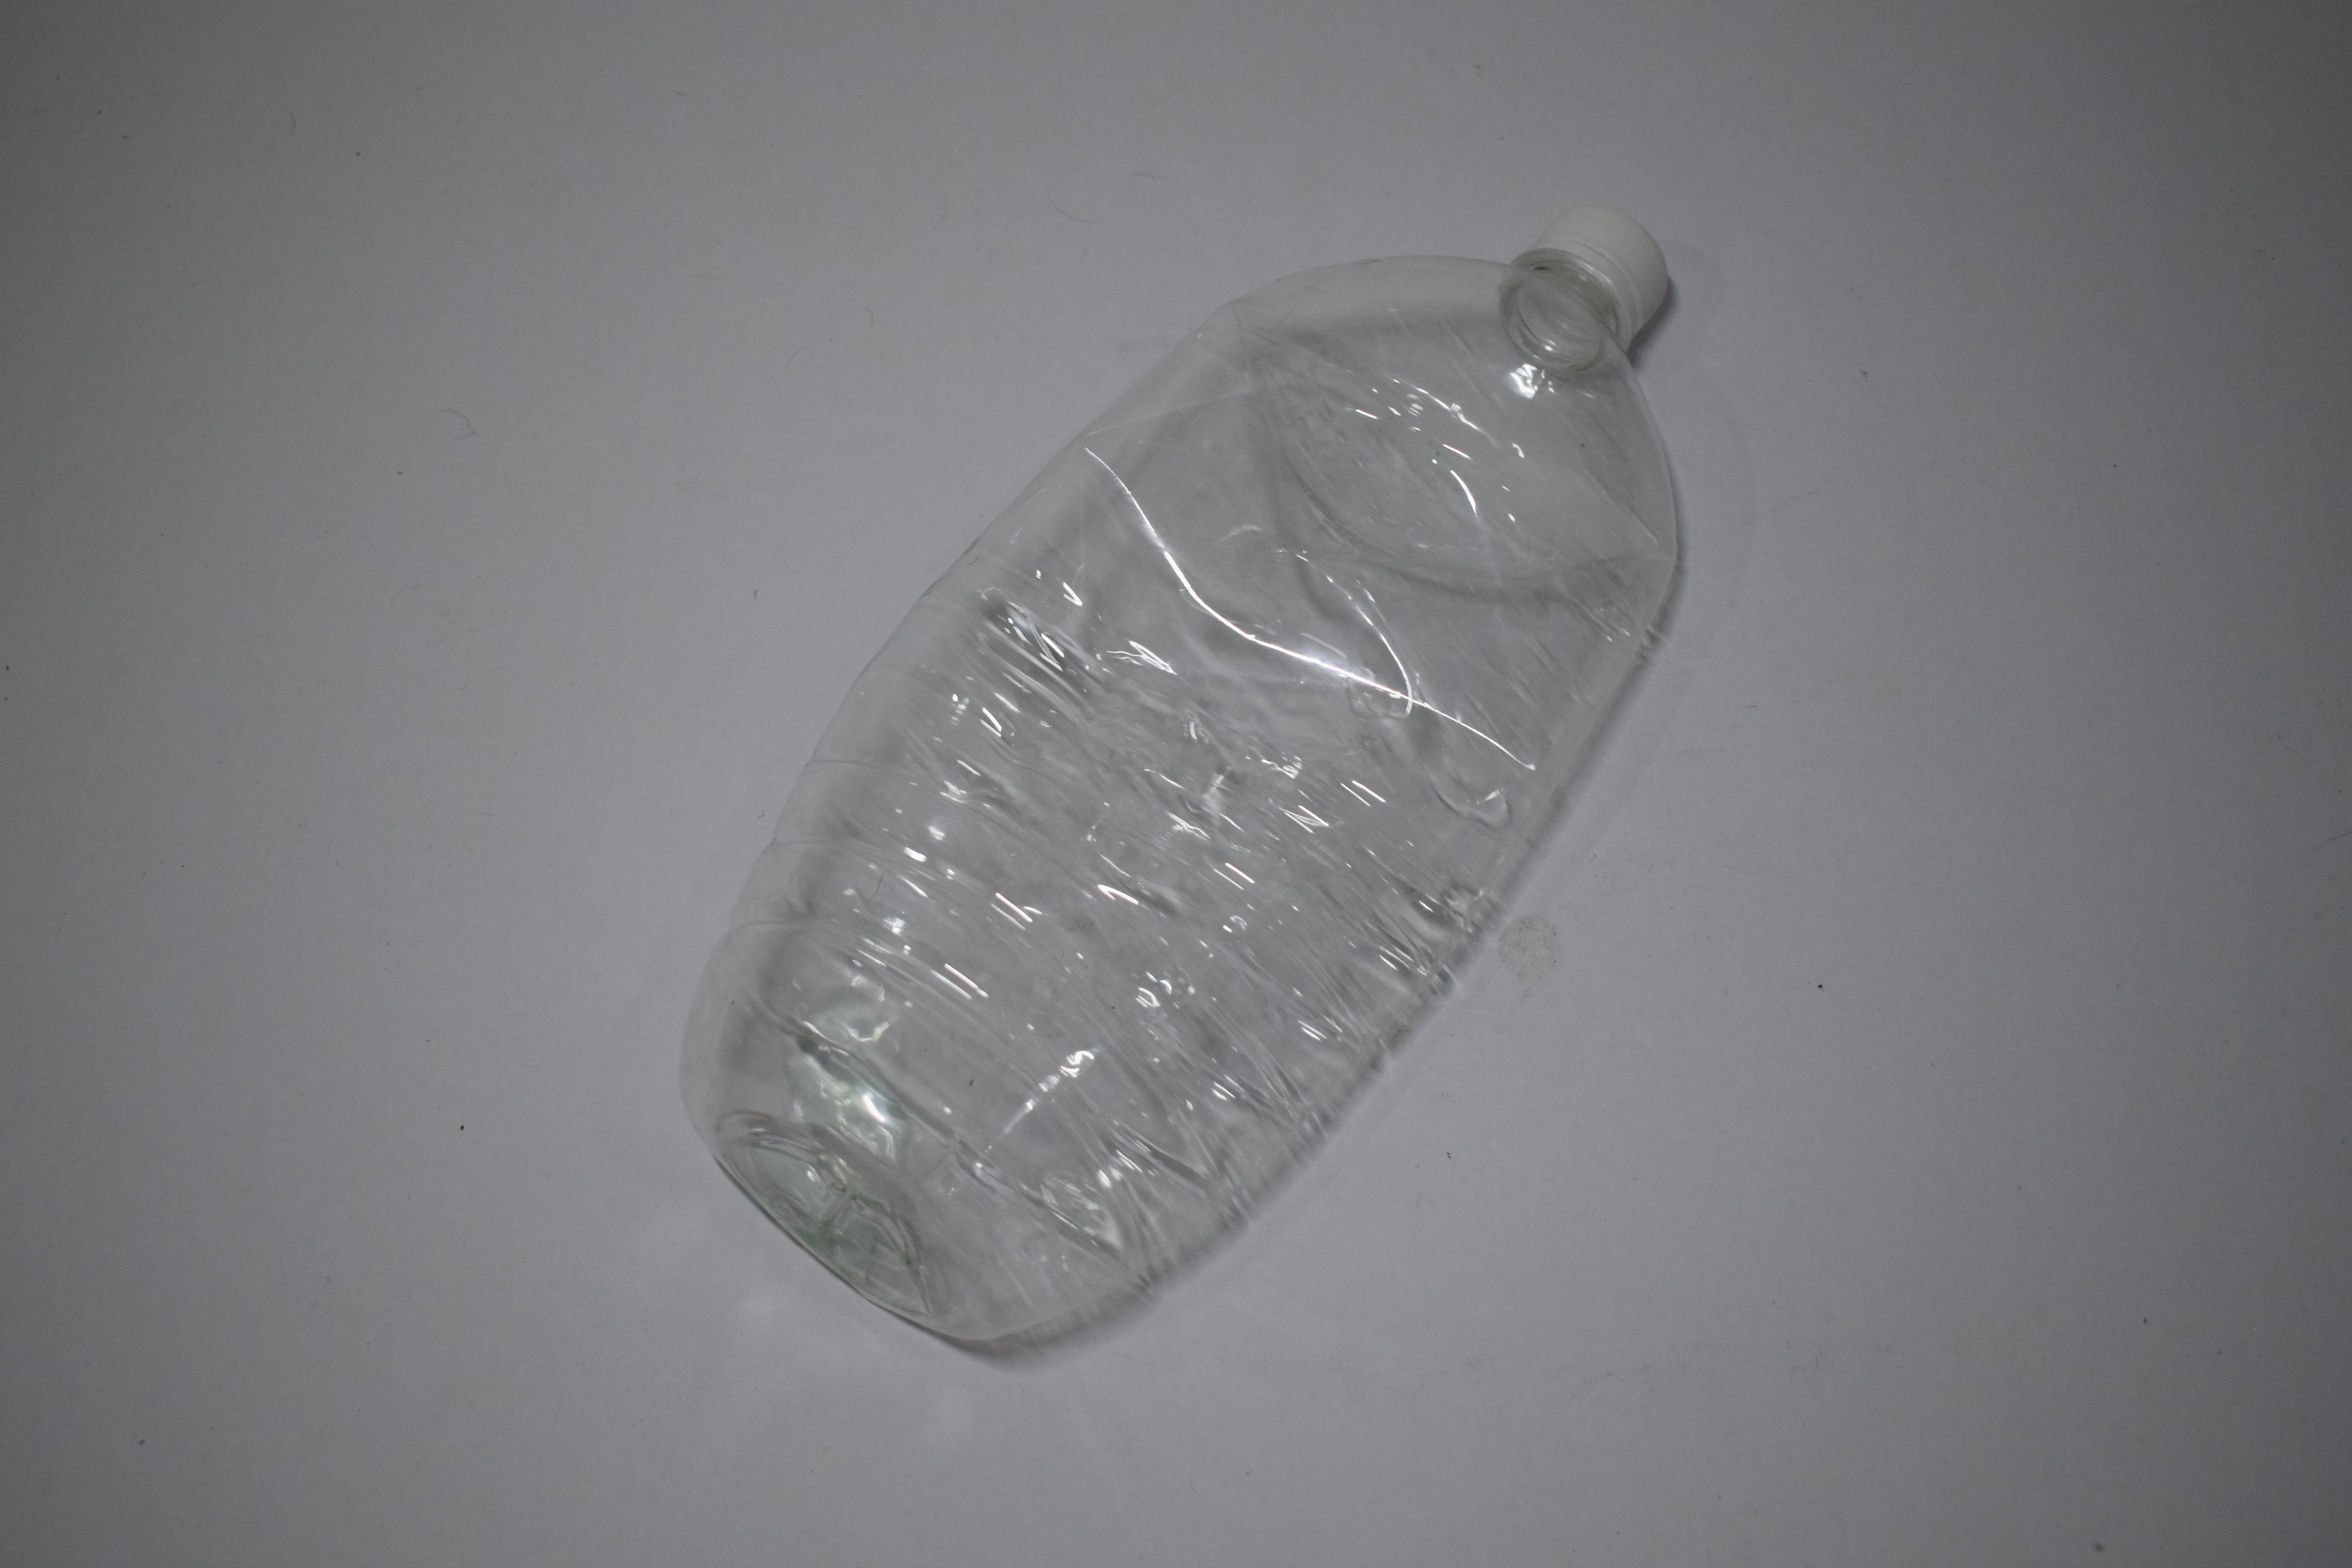bottle: (0, 231, 518, 1328)
